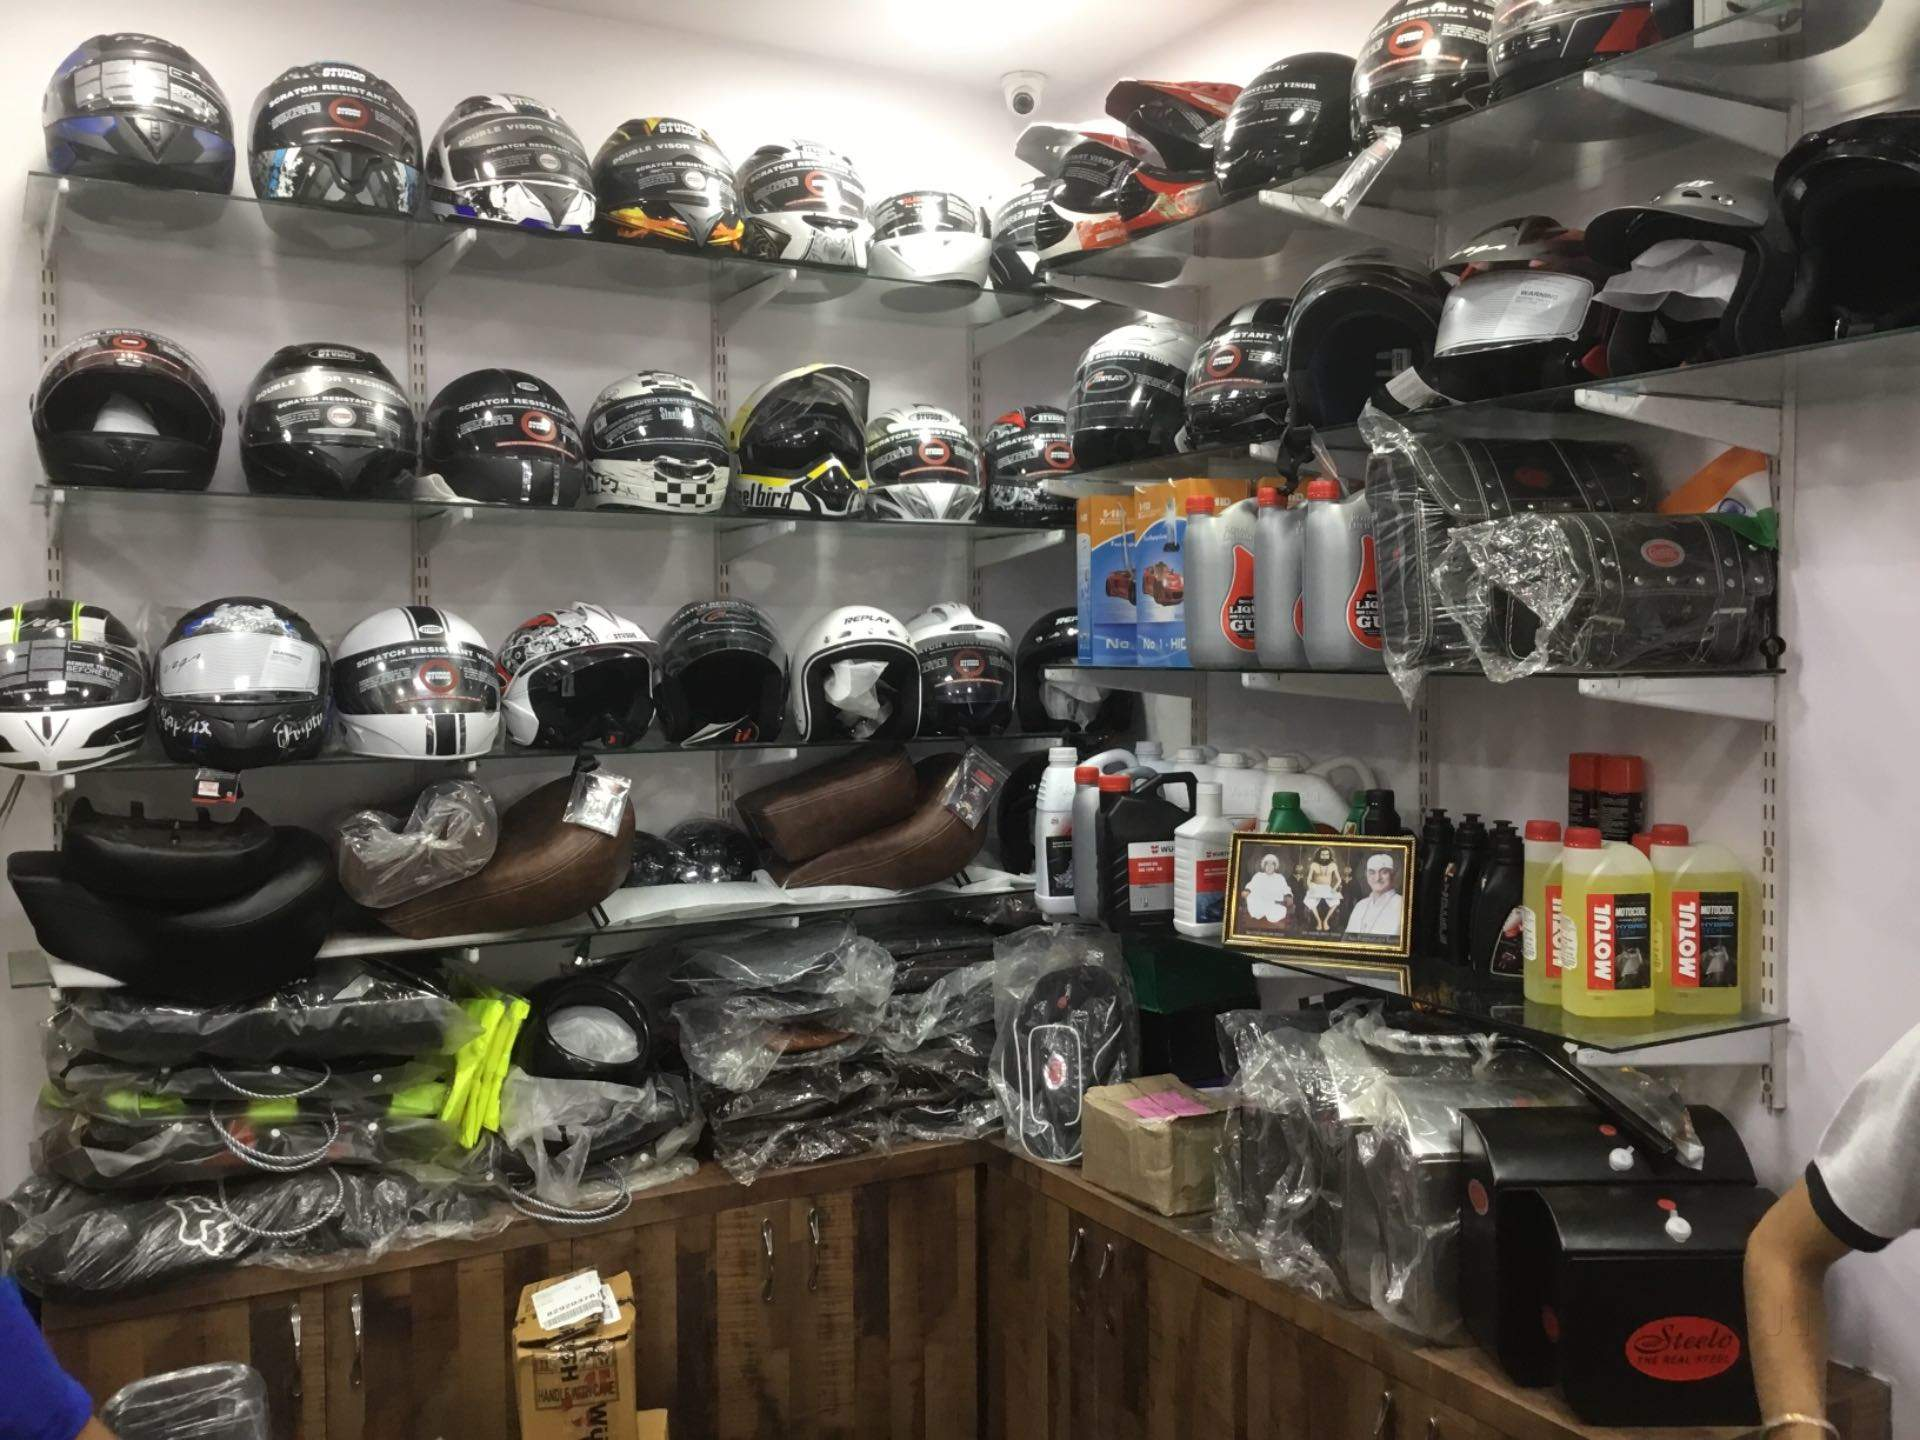with_helmet: (36, 27, 242, 213), (30, 322, 230, 498), (154, 594, 333, 771), (246, 51, 428, 224), (239, 340, 423, 507), (425, 77, 605, 245), (330, 601, 508, 768), (2, 588, 156, 781), (503, 594, 661, 756), (423, 362, 587, 516), (739, 360, 878, 529), (587, 365, 733, 523), (599, 106, 748, 257), (1217, 50, 1367, 198), (1013, 115, 1157, 262), (1104, 74, 1237, 230), (664, 597, 798, 750), (742, 132, 877, 283), (794, 597, 924, 750), (1352, 2, 1494, 138), (1070, 321, 1193, 463), (1184, 296, 1296, 448), (872, 399, 989, 532), (910, 607, 1017, 747), (872, 178, 995, 301)
